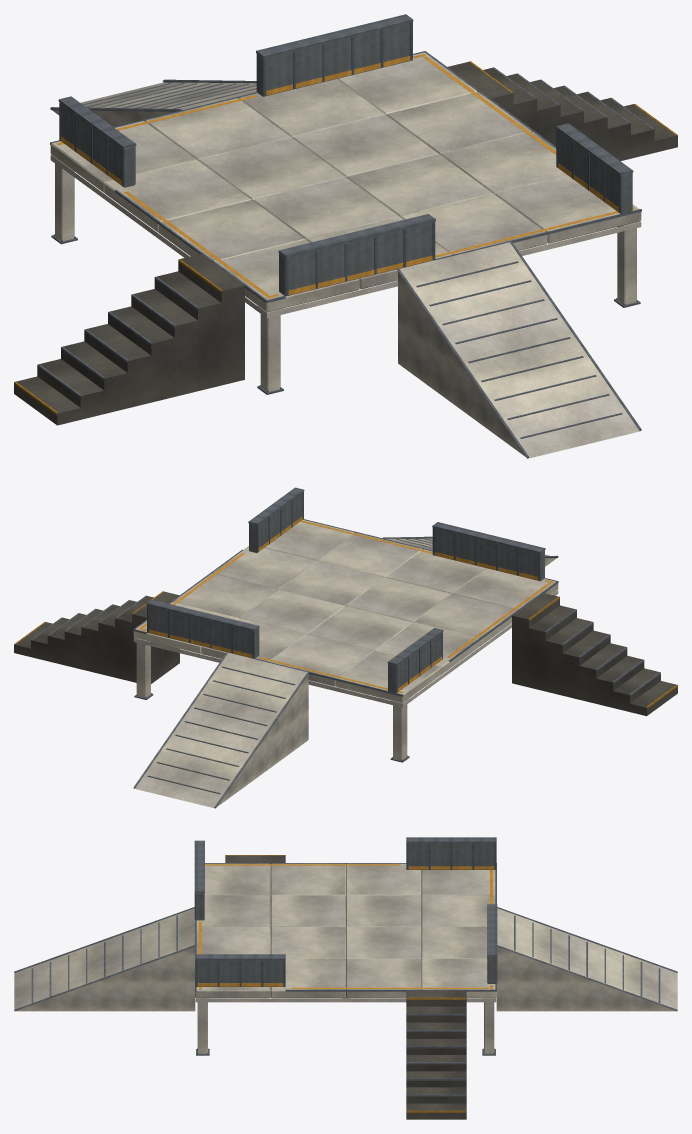
File: centerdeck.glb
3 views of the same model, one above another, from view 1: azimuth 30°, elevation 25°; view 2: azimuth 150°, elevation 25°; view 3: azimuth 270°, elevation 25° (orthographic). The views are drawn at different scales.
Visible parts, largest first — view 1: Concrete, NS_BareMetal, PaintedMetal, NS_PaintedMetal; view 2: Concrete, PaintedMetal, NS_BareMetal, NS_PaintedMetal; view 3: Concrete, NS_BareMetal, PaintedMetal, NS_PaintedMetal.
Boxes of the visible parts, x1,y1,x2,y2 form: Concrete: (14, 52, 677, 458); NS_BareMetal: (14, 14, 677, 458); PaintedMetal: (61, 21, 632, 296); NS_PaintedMetal: (56, 22, 635, 298); Concrete: (14, 520, 677, 808); PaintedMetal: (147, 492, 544, 693); NS_BareMetal: (14, 487, 677, 808); NS_PaintedMetal: (138, 492, 553, 693); Concrete: (14, 855, 677, 1119); NS_BareMetal: (14, 837, 677, 1112); PaintedMetal: (195, 843, 496, 986); NS_PaintedMetal: (194, 843, 497, 989).
Bounding box in the file's own units: 20.01 × 3.45 × 22.02.
3 materials, 3 textured.
